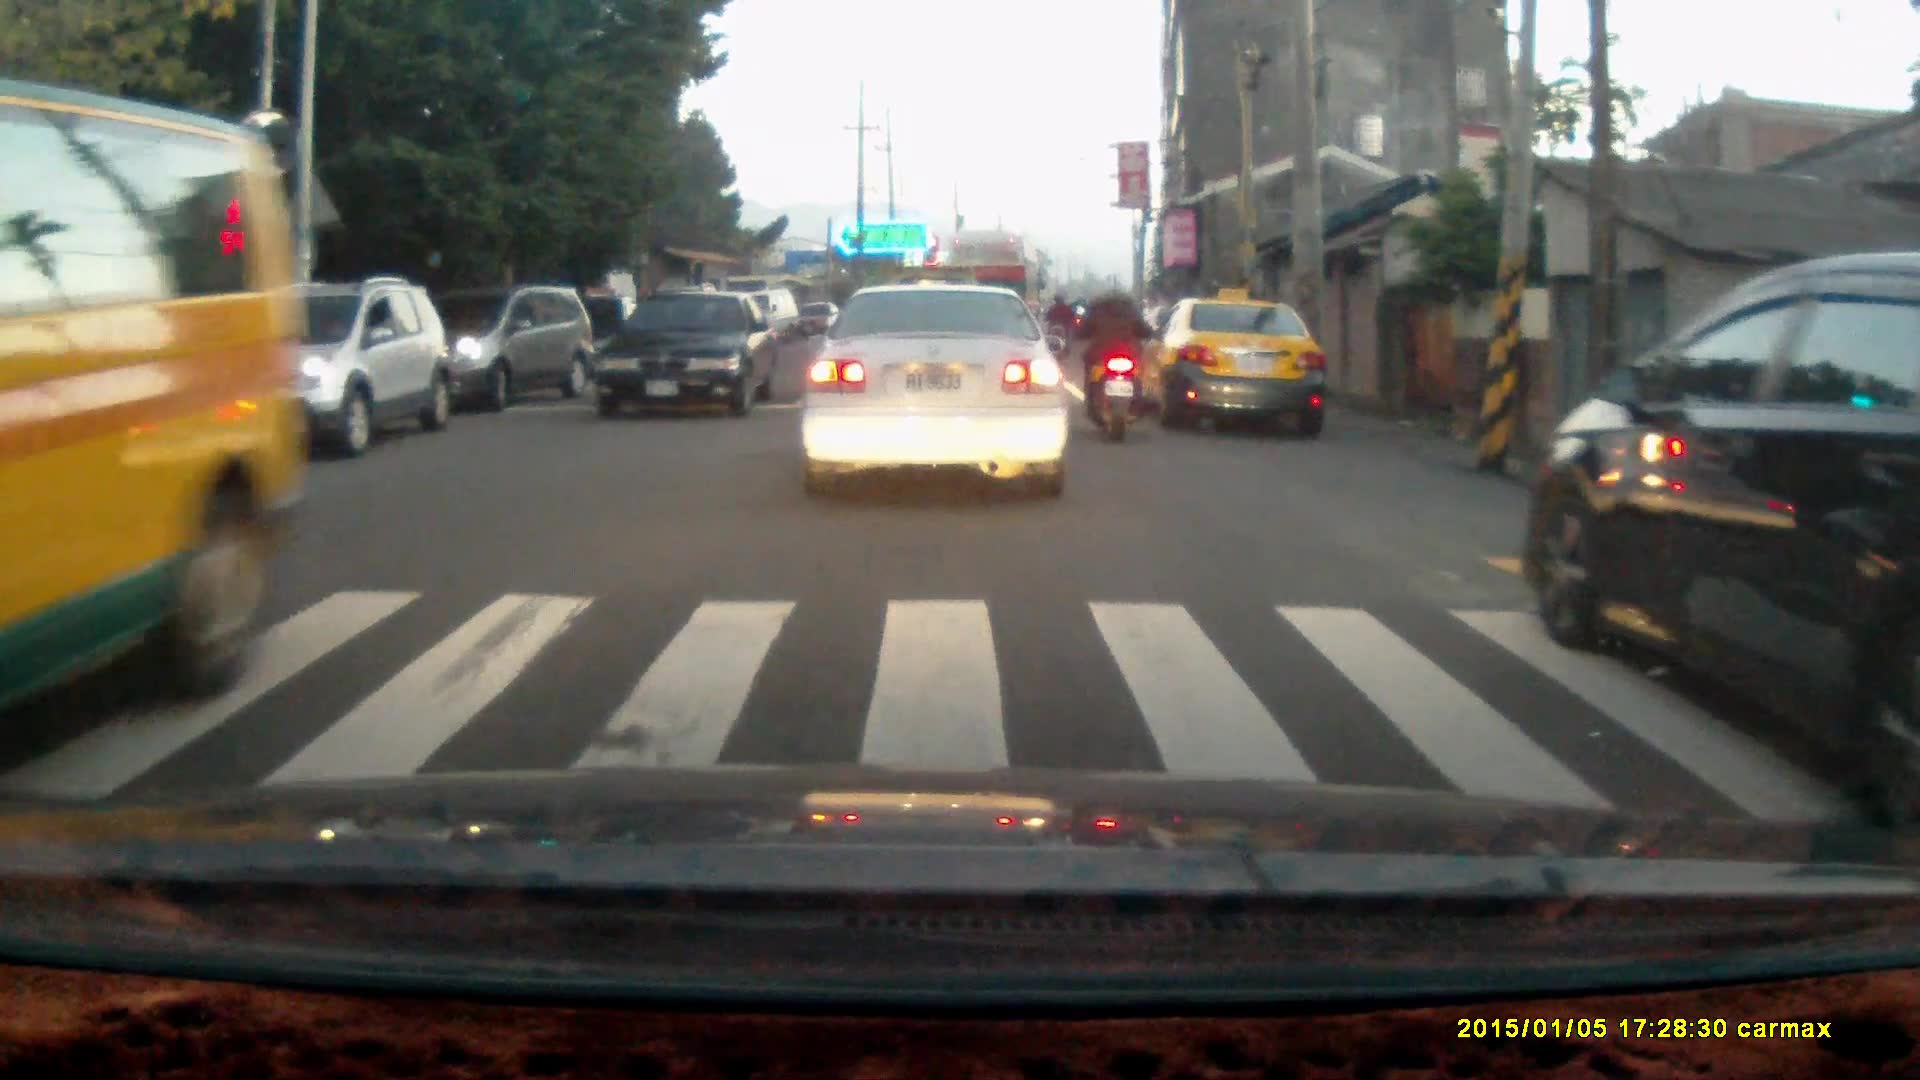rider: (1074, 271, 1153, 444)
vehicle: (5, 84, 301, 738), (1542, 262, 1920, 761), (801, 280, 1076, 502), (591, 286, 782, 424), (1143, 295, 1328, 435)
